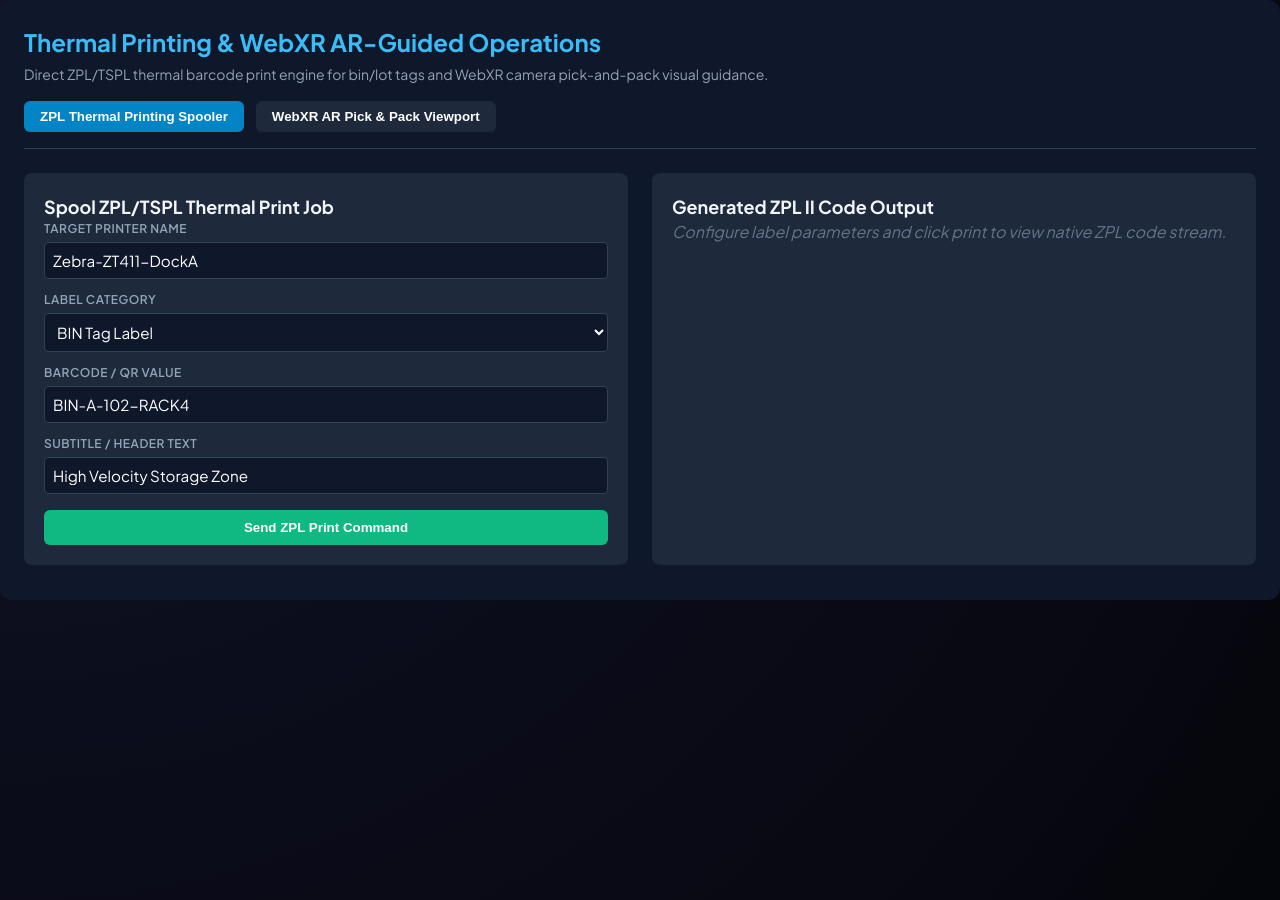
Test: ThermalPrintingArPanel › toggles AR guidance active state and updates inputs
Click the button "WebXR AR Pick & Pack Viewport" at (376, 116), box [256,101,496,132]
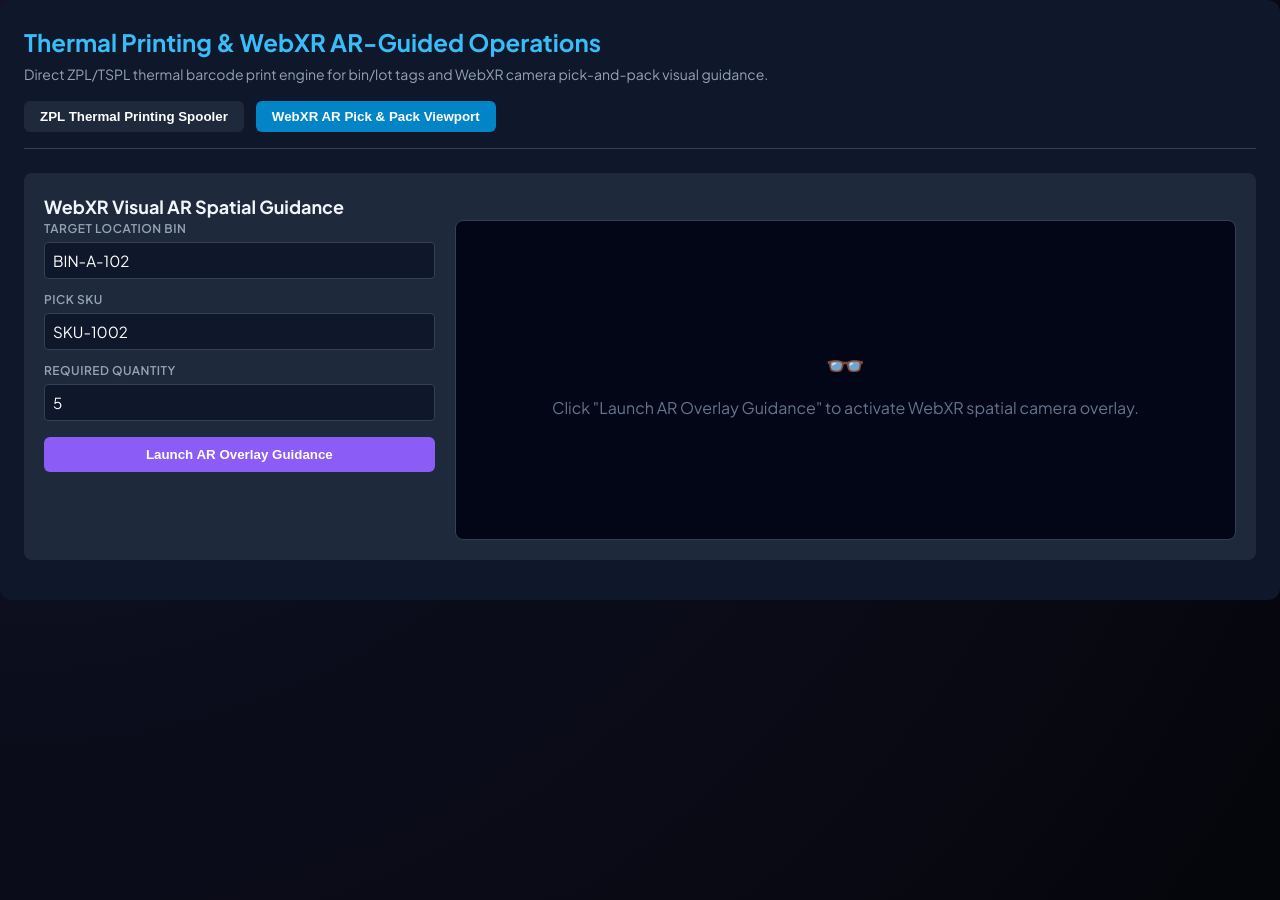
Replace the text in the field labelled "Target Location Bin" with "BIN-B-205" at (239, 260), box [44,242,435,279]
Replace the text in the field labelled "Pick SKU" with "SKU-9999" at (239, 332), box [44,313,435,350]
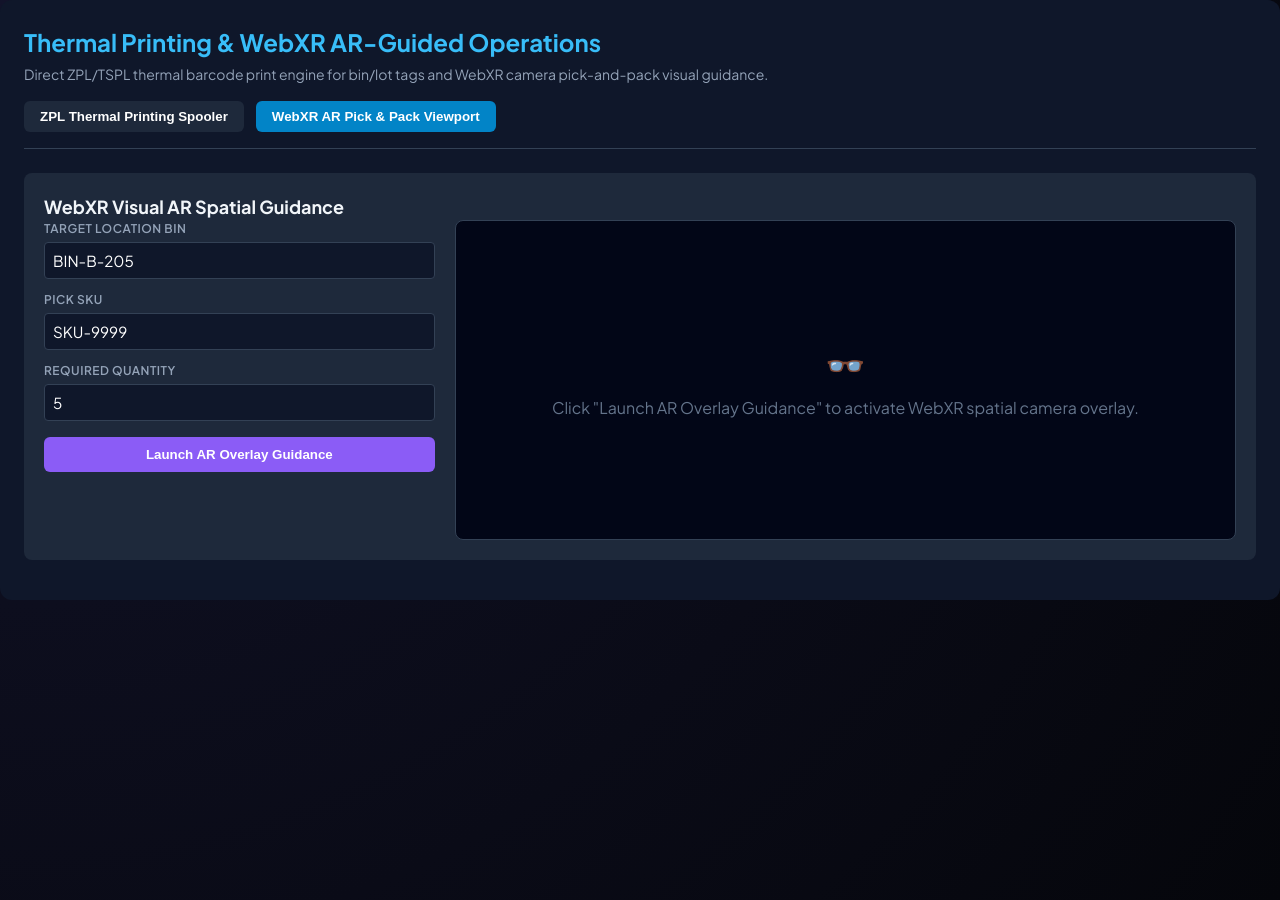
Replace the text in the number field labelled "Required Quantity" with "12" at (239, 402), box [44,384,435,421]
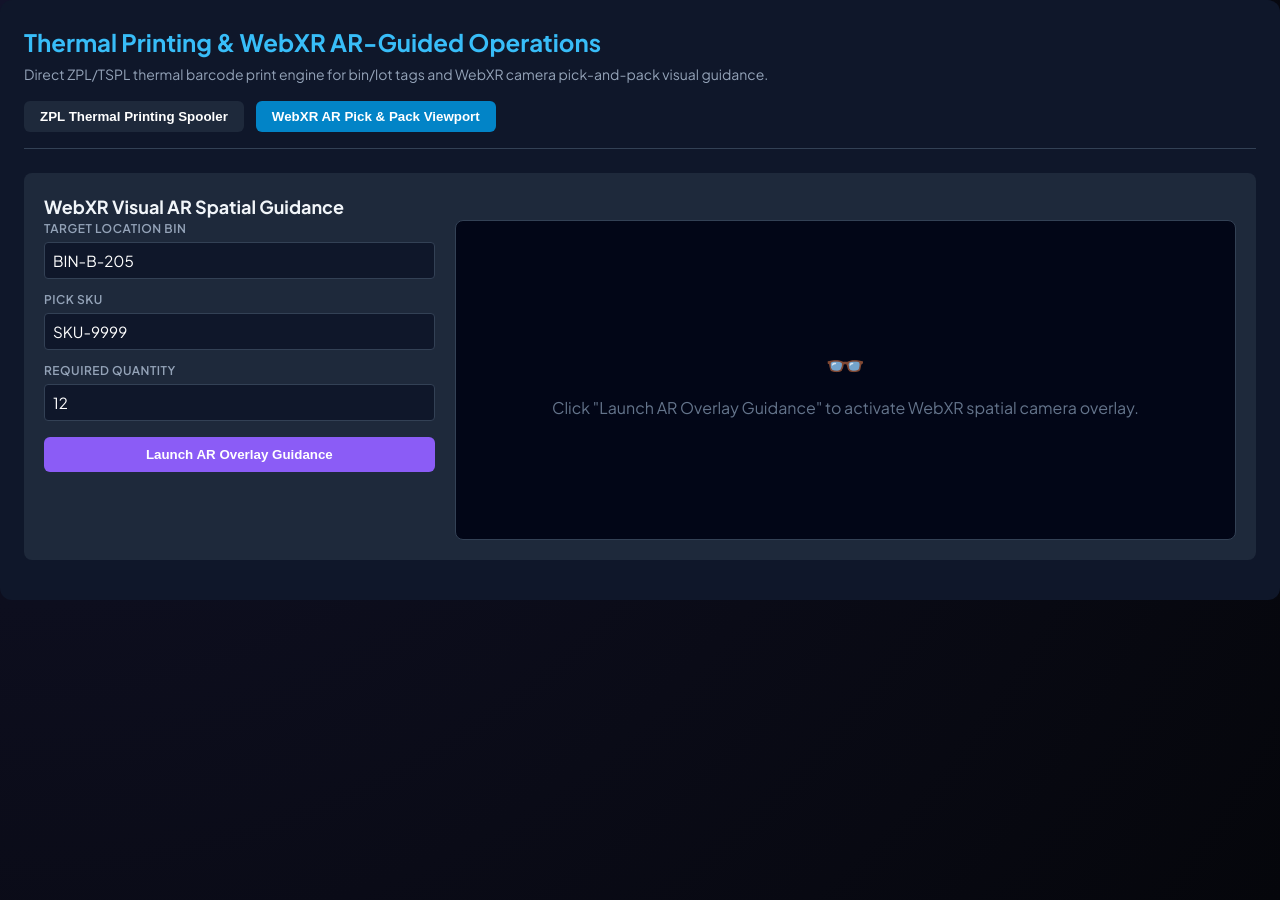
Click the button "Launch AR Overlay Guidance" at (239, 454), box [44,437,435,472]
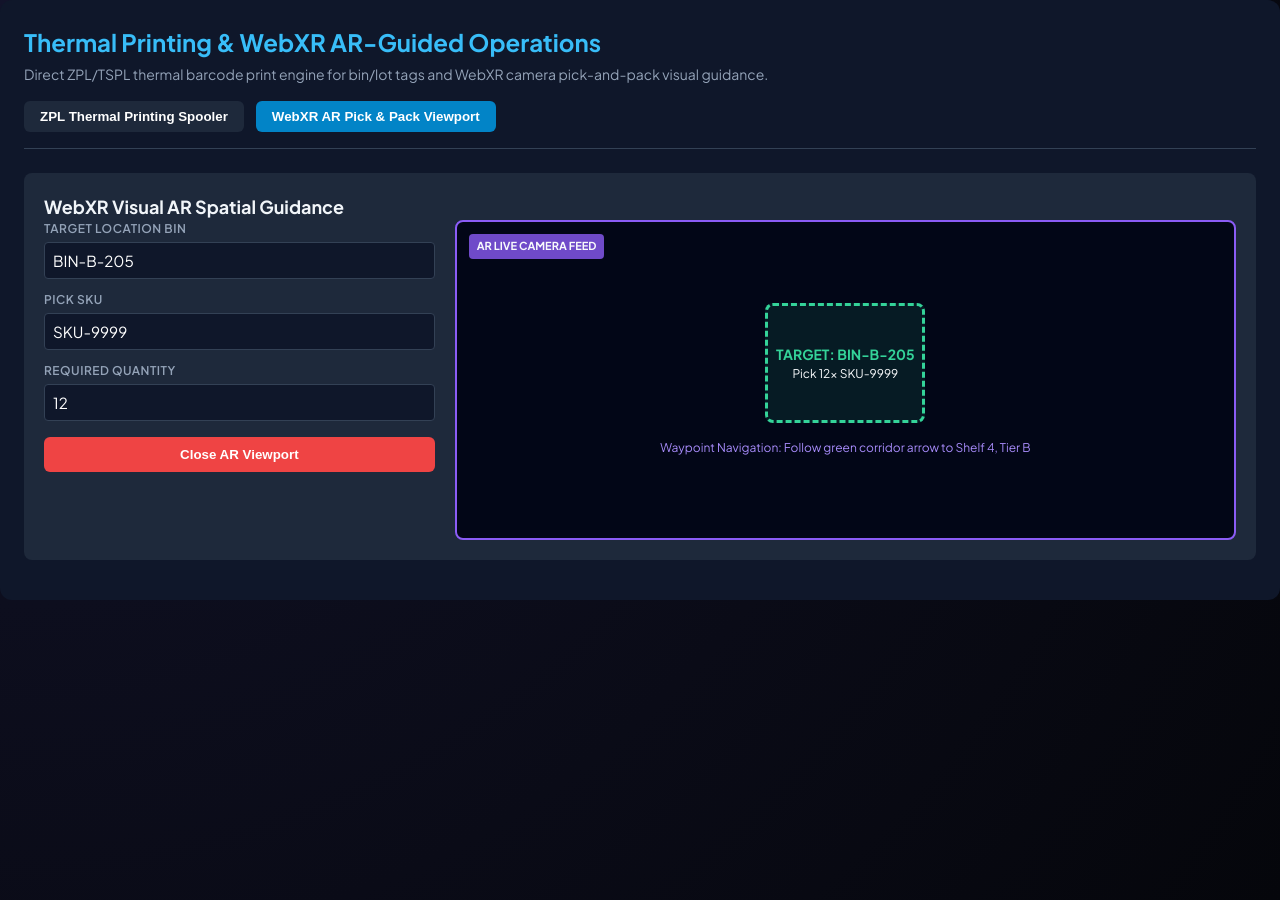
Now the text "AR LIVE CAMERA FEED" is shown, box [469,234,604,258]
Now the text "TARGET: BIN-B-205" is shown, box [776,344,914,364]
Now the text "Pick 12x SKU-9999" is shown, box [792,364,898,382]
Note: Test quantity fallback when empty or invalid string is input
Clear the number field labelled "Required Quantity" at (239, 402), box [44,384,435,421]
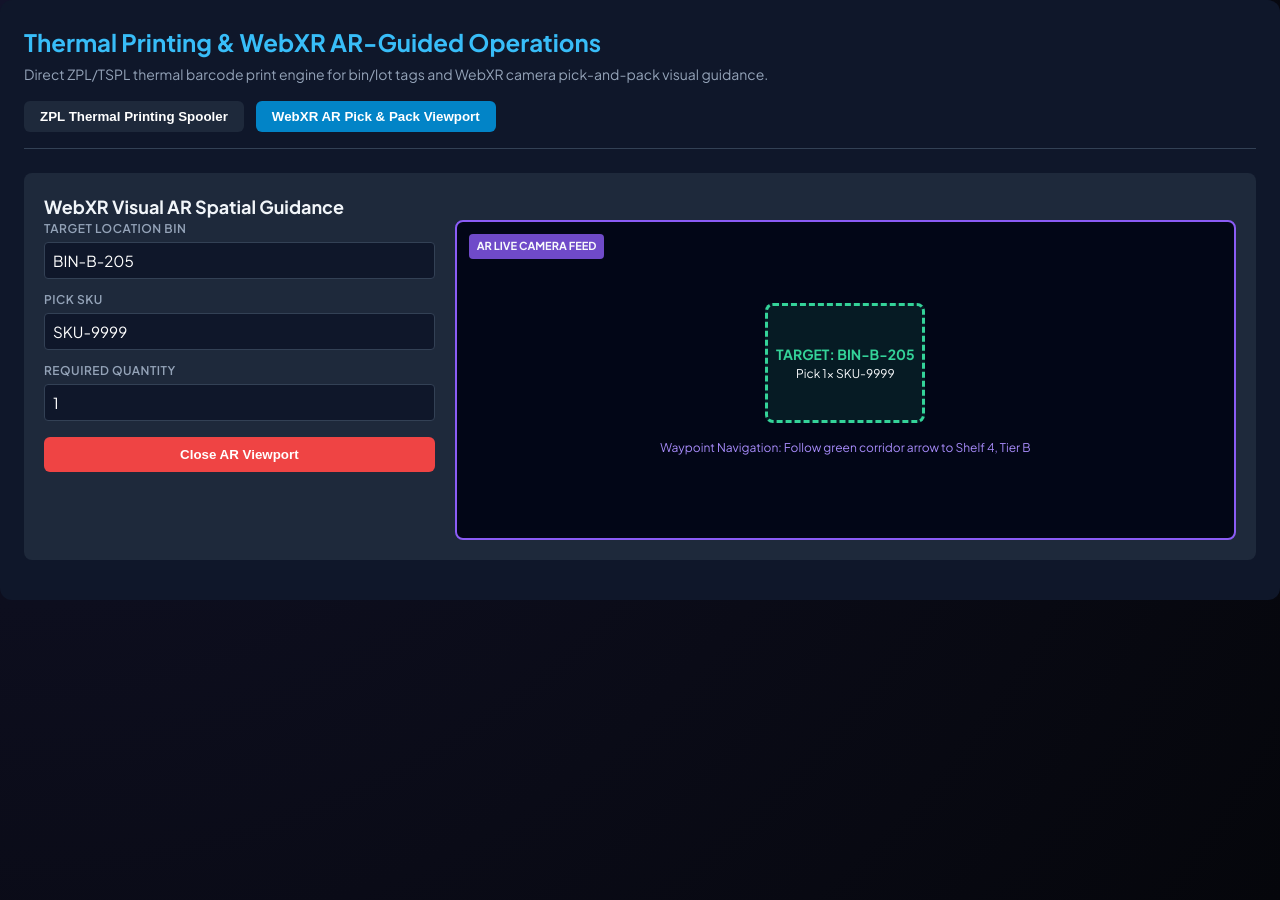
Now the text "Pick 1x SKU-9999" is shown, box [796,364,895,382]
Click the button "Close AR Viewport" at (239, 454), box [44,437,435,472]
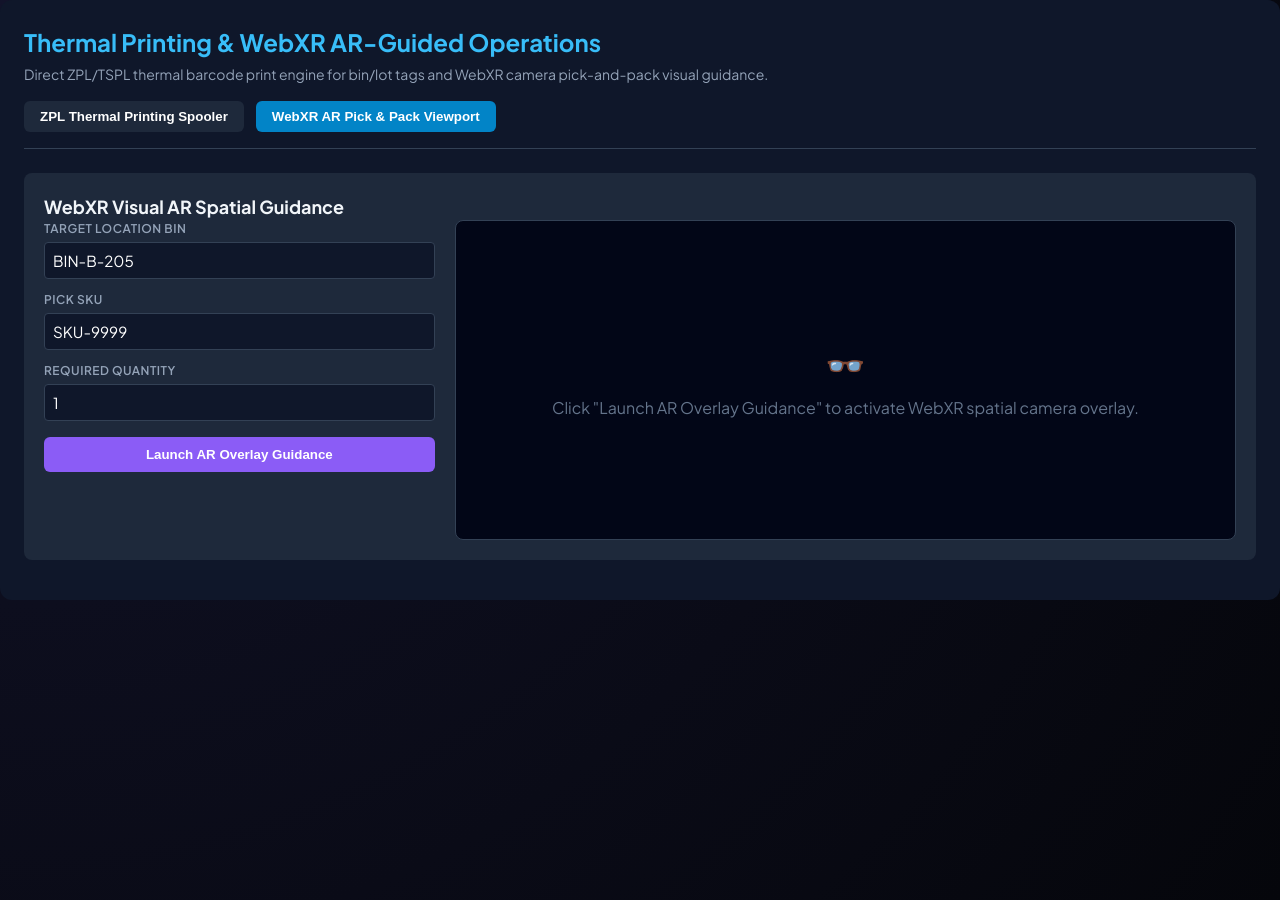
Now the text "Click \"Launch AR Overlay Guidance\" to activate" is shown, box [552,397,1139,418]
